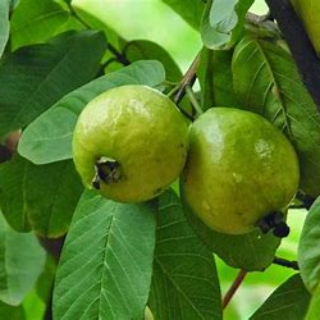oi: (184, 104, 307, 242), (70, 85, 190, 208)
